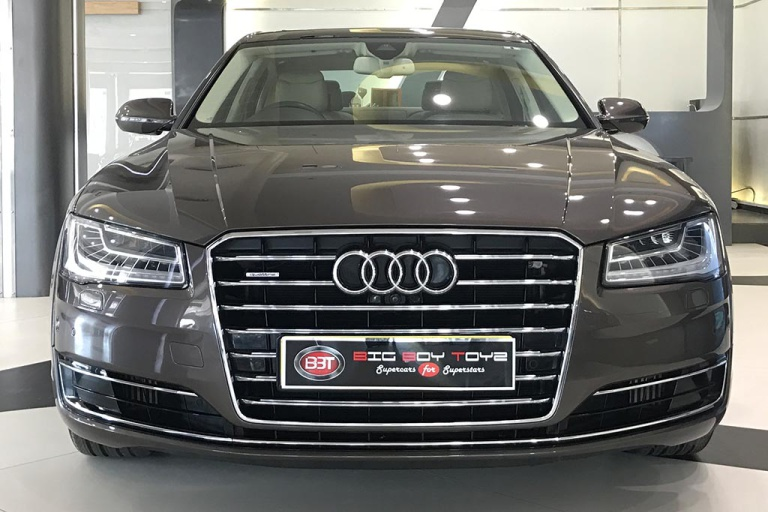audi: (328, 245, 464, 307)
